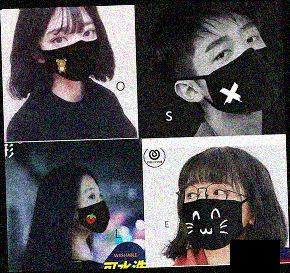with_mask: (193, 19, 274, 113), (179, 178, 253, 252), (39, 19, 101, 83), (76, 184, 112, 235)
